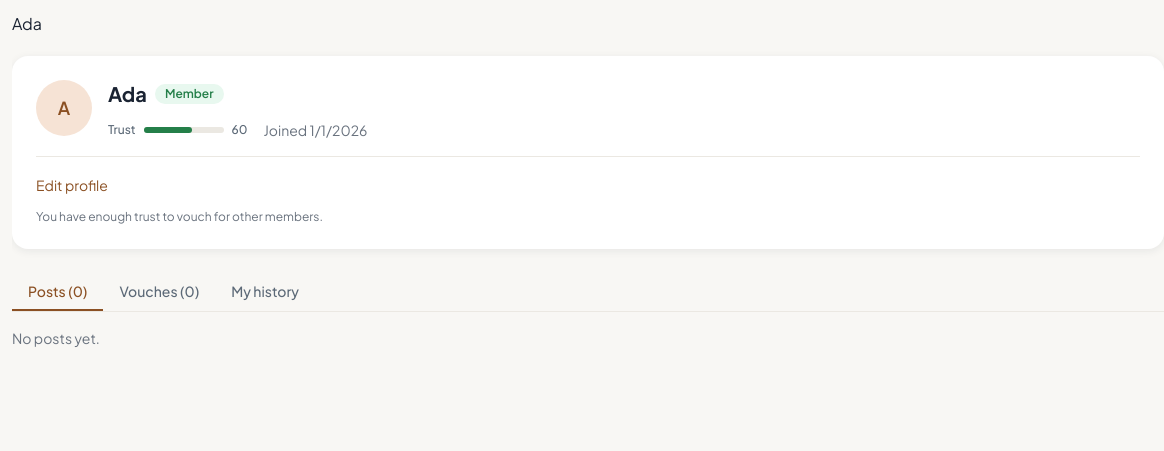
Test: Profile — my moderation history › shows the record once the tab is opened
Click the button "My history" at (265,292), box [215,273,315,311]
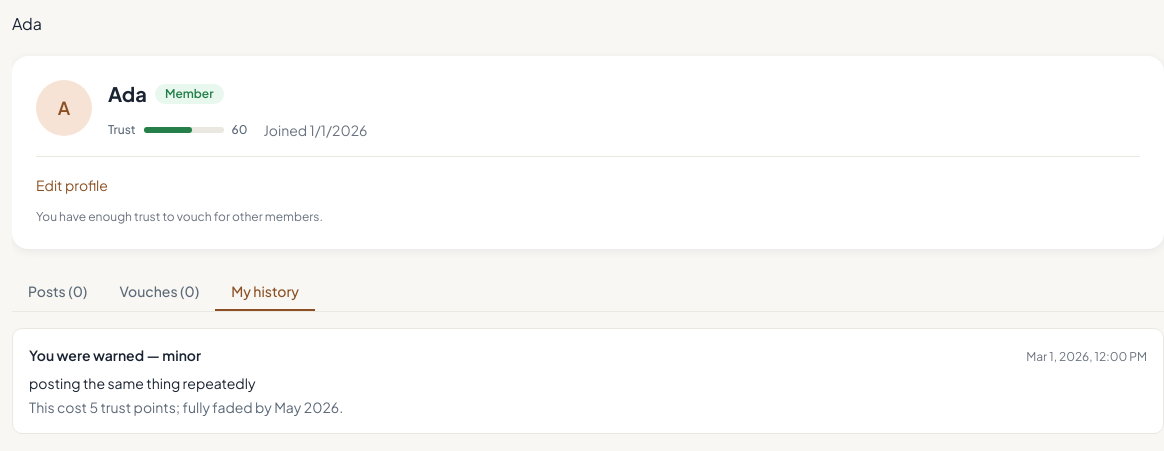
Check: the heading "You were warned — minor" is shown, box [29,345,201,365]
Check: the text "posting the same thing repeatedly" is shown, box [29,374,255,392]
